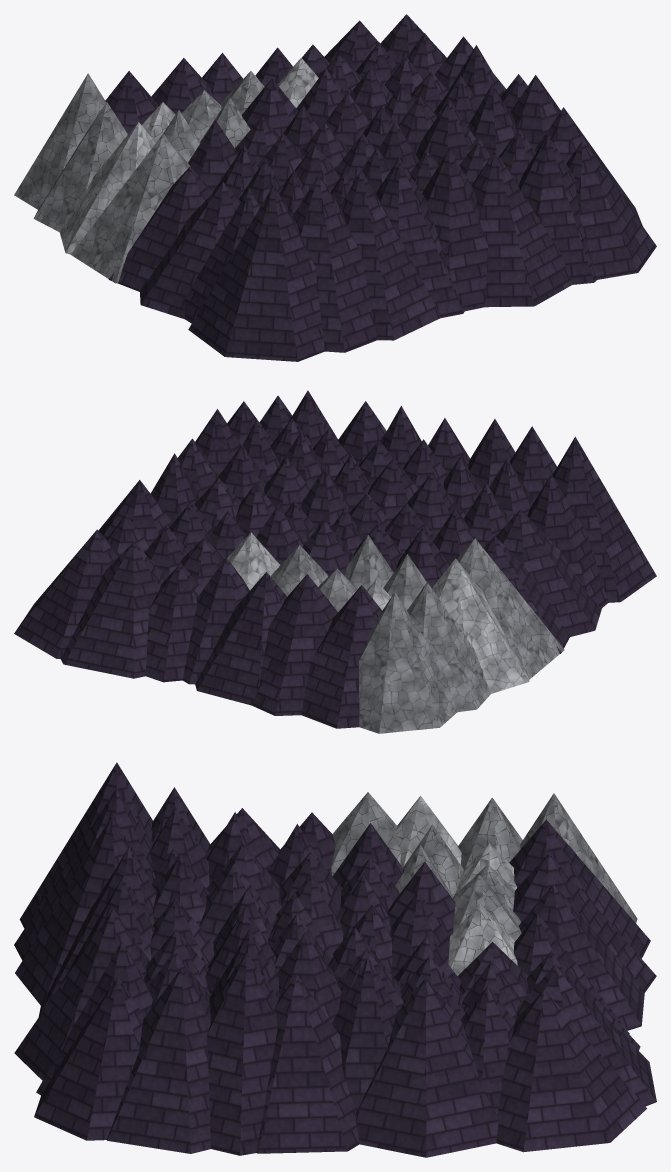
The model's file is chunk_8_24.glb.
3 renders of one model, top to bottom at view 1: azimuth 30°, elevation 25°; view 2: azimuth 150°, elevation 25°; view 3: azimuth 270°, elevation 25°, orthographic. The views are drawn at different scales.
Parts seen in each view (by area): view 1: chunk_8_24; view 2: chunk_8_24; view 3: chunk_8_24.
Part boxes in pixels (box(x1,y1,x2,y2)): chunk_8_24: box(14, 14, 656, 361); chunk_8_24: box(14, 390, 656, 733); chunk_8_24: box(14, 762, 656, 1157).
Bounding box in the file's own units: 21.32 × 6.05 × 21.11.
Materials: 7 (7 with a texture image).
